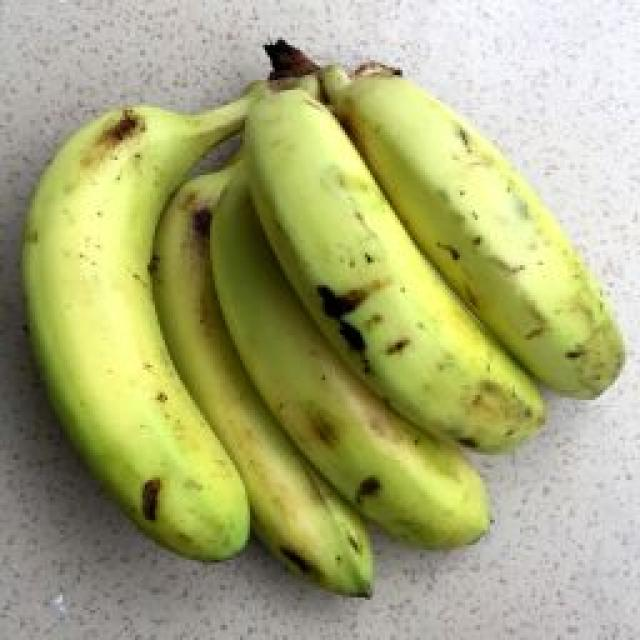banana: (127, 38, 623, 534)
